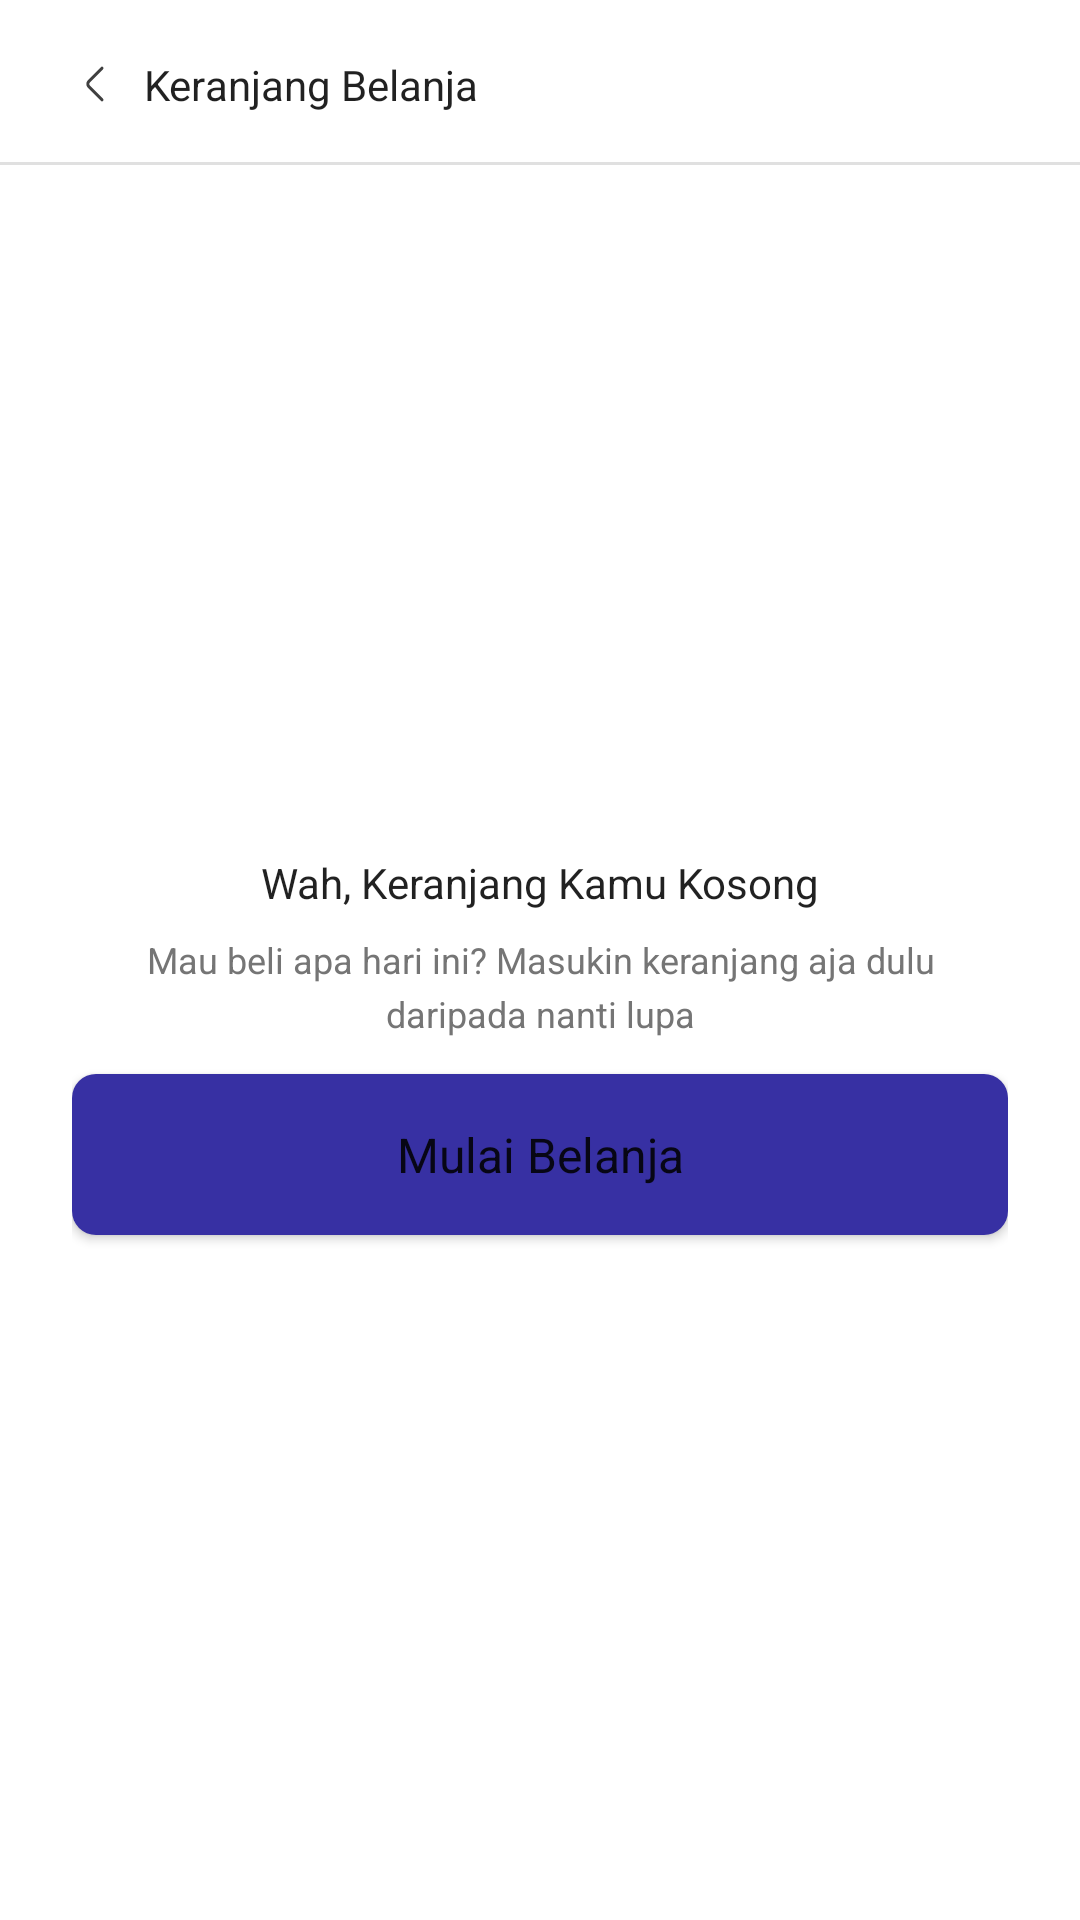

Icon bounding boxes for this 1080 x 1920 phone screenshot, format detection(x1, y1, x2, y2):
arrow left: detection(86, 66, 104, 102)
